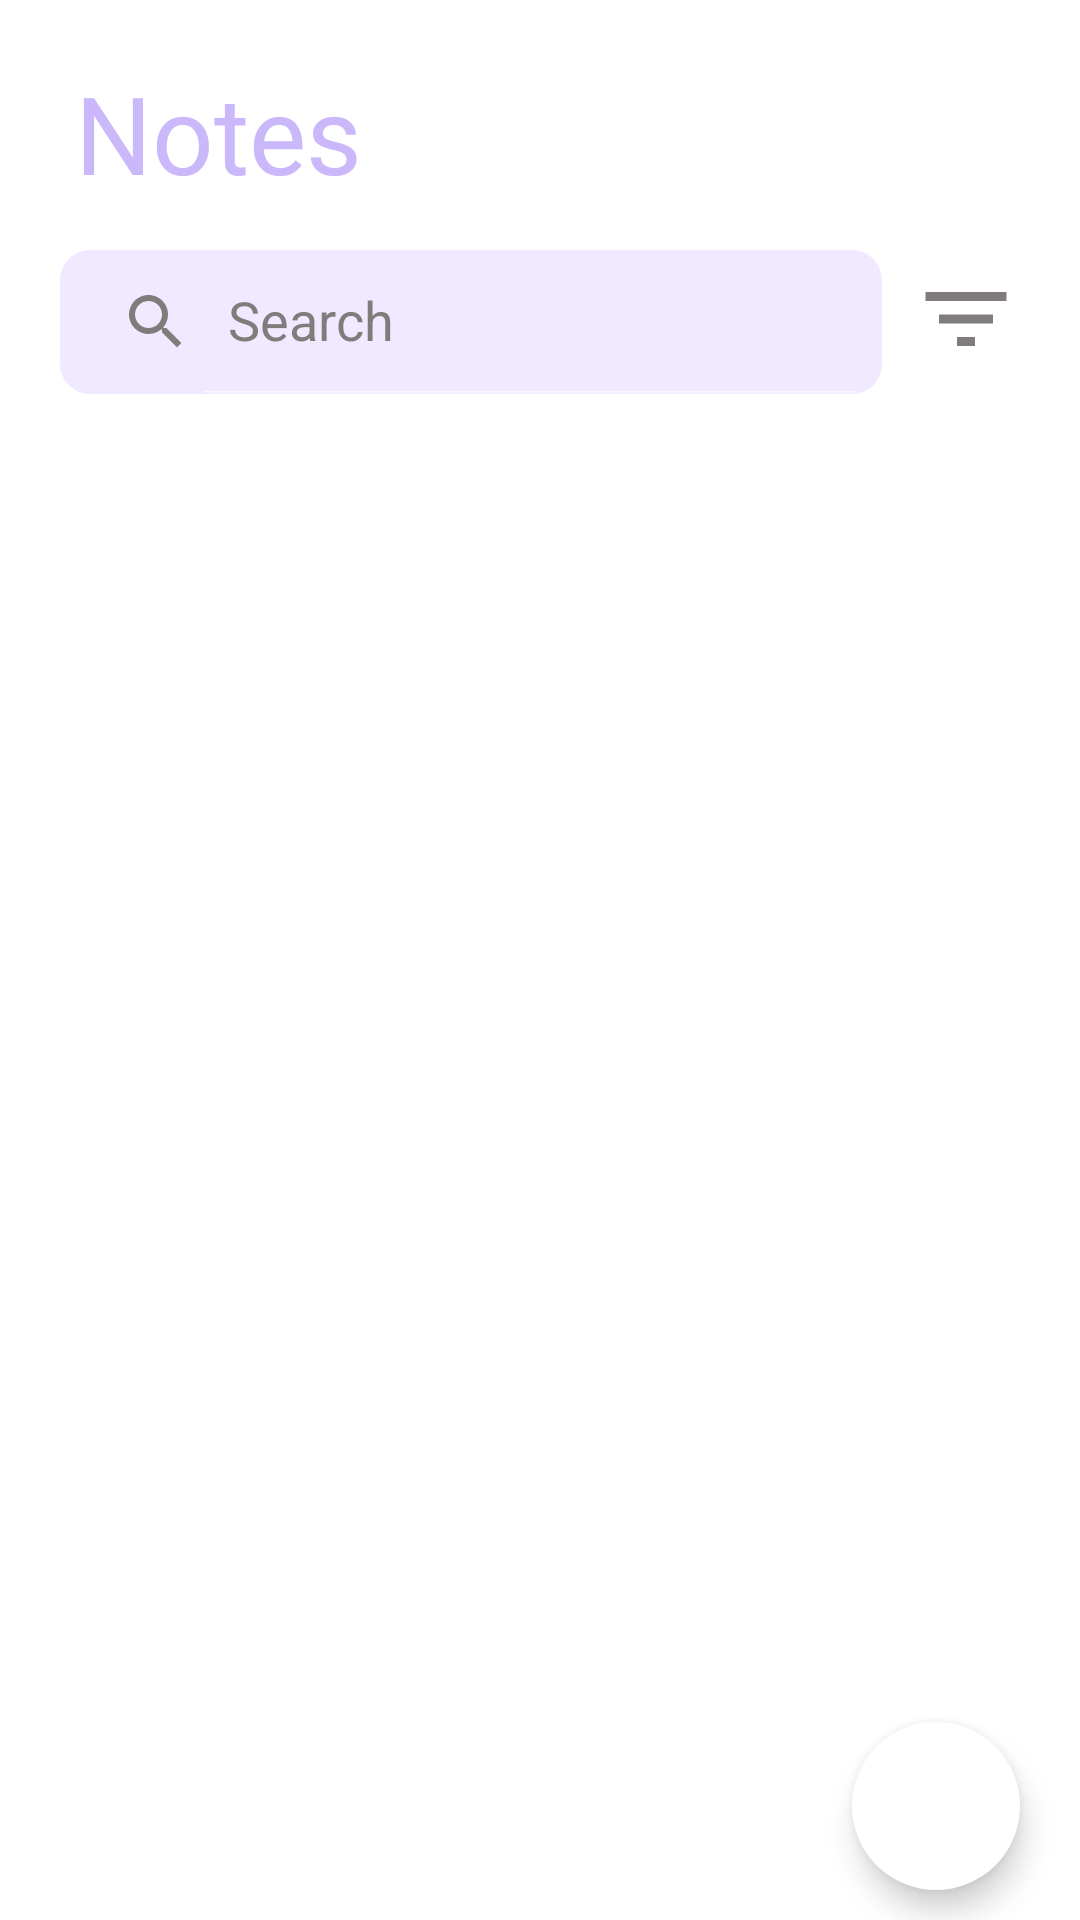

Icon bounding boxes for this 1080*1920 phone screenshot, format (x1, y1, x2, y2):
sort: (925, 292, 1007, 346)
